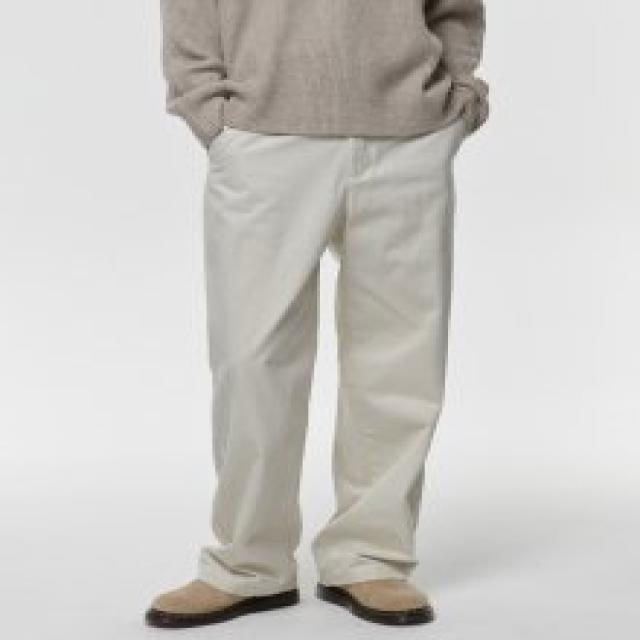long-pants: (197, 129, 453, 590)
